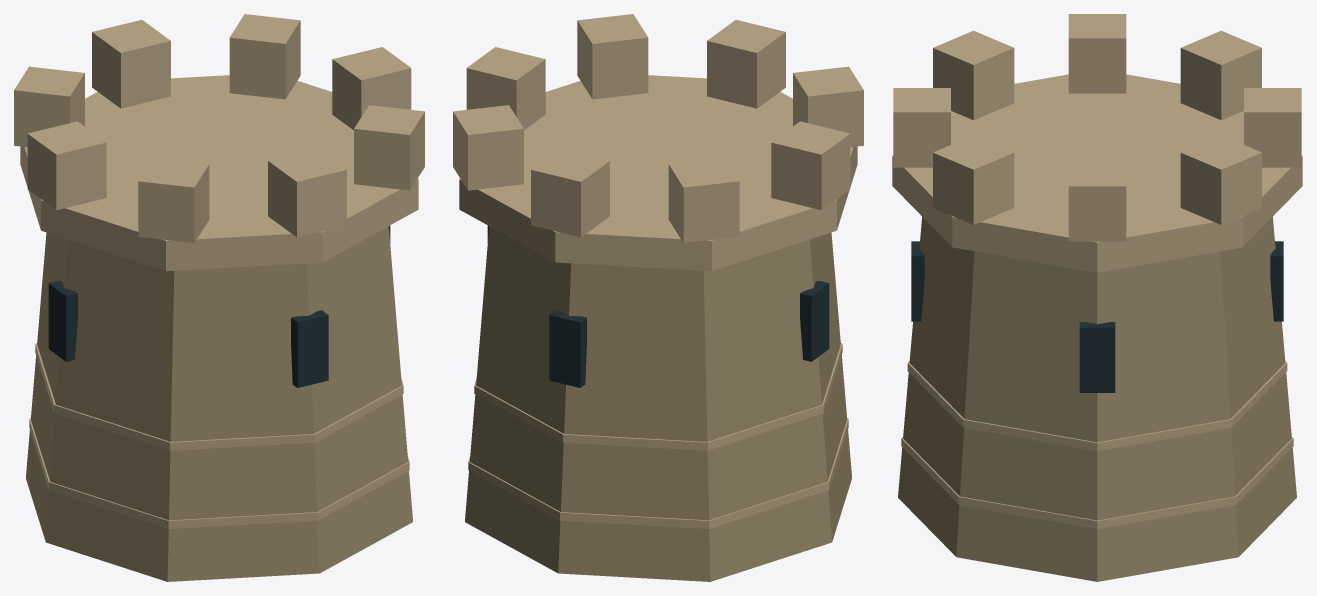
Rendered from PirateCove_FortBastion_Standard.glb.
3 renders of one model, left to right at view 1: azimuth 30°, elevation 25°; view 2: azimuth 150°, elevation 25°; view 3: azimuth 270°, elevation 25°, orthographic.
Parts seen in each view (by area): view 1: PirateCove_FortBastion_Standard; view 2: PirateCove_FortBastion_Standard; view 3: PirateCove_FortBastion_Standard.
Boxes of the visible parts, <box> form: PirateCove_FortBastion_Standard: <box>14,14,424,581</box>; PirateCove_FortBastion_Standard: <box>453,14,863,581</box>; PirateCove_FortBastion_Standard: <box>892,14,1302,581</box>.
Size of the model in its own units: 3.7 by 3.96 by 3.7.
